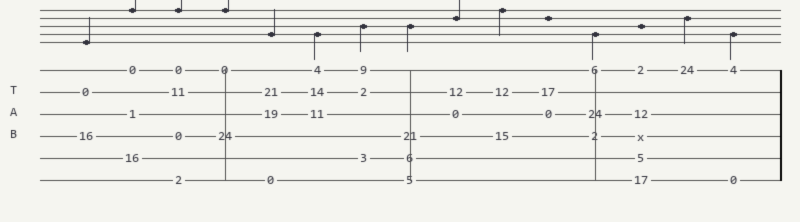0: (82, 86, 93, 98), (129, 64, 140, 76), (175, 130, 186, 142), (175, 64, 186, 76), (221, 64, 232, 76), (267, 174, 278, 186), (452, 108, 463, 120), (545, 108, 556, 120), (730, 174, 741, 186)
1: (129, 108, 140, 120)
11: (171, 86, 189, 98), (310, 108, 328, 120)
12: (449, 86, 467, 98), (495, 86, 513, 98), (634, 108, 652, 120)
14: (310, 86, 328, 98)
15: (495, 130, 513, 142)
16: (79, 130, 97, 142), (125, 152, 143, 164)
17: (541, 86, 559, 98), (634, 174, 652, 186)
19: (264, 108, 282, 120)
2: (175, 174, 186, 186), (360, 86, 371, 98), (591, 130, 602, 142), (637, 64, 648, 76)
21: (264, 86, 282, 98), (403, 130, 421, 142)
24: (218, 130, 236, 142), (588, 108, 606, 120), (680, 64, 698, 76)
3: (360, 152, 371, 164)
4: (314, 64, 325, 76), (730, 64, 741, 76)
5: (406, 174, 417, 186), (637, 152, 648, 164)
6: (406, 152, 417, 164), (591, 64, 602, 76)
9: (360, 64, 371, 76)
x: (637, 131, 648, 141)
